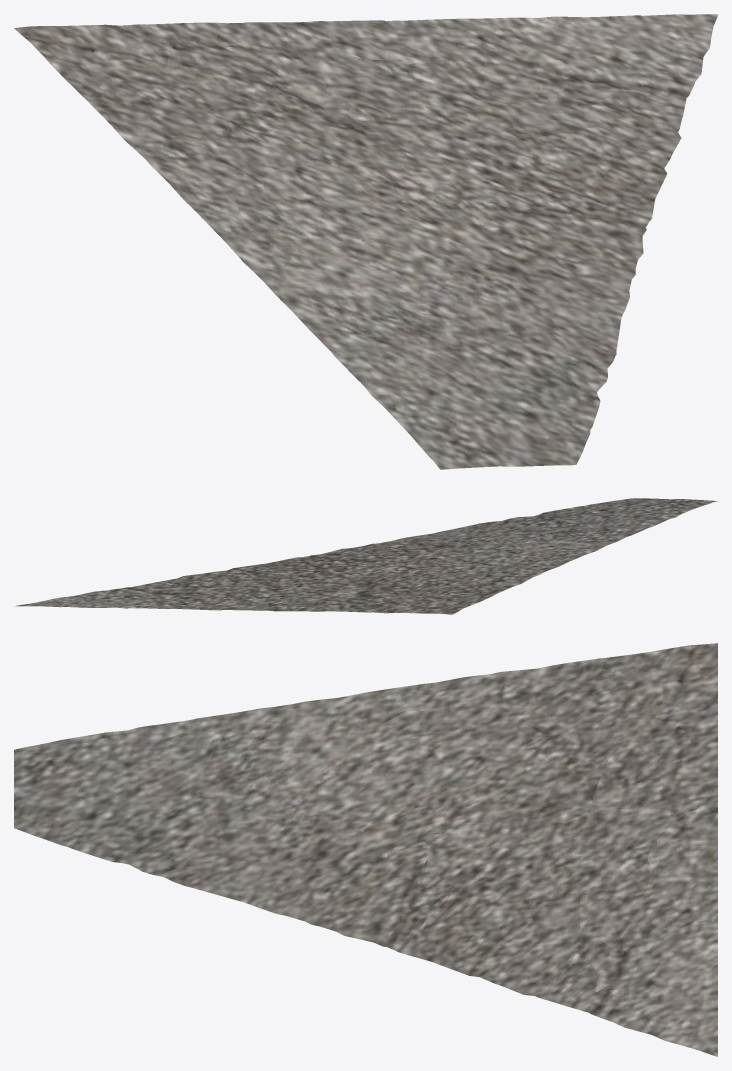
The picture shows the model from 3 angles, top to bottom: view 1: azimuth 30°, elevation 25°; view 2: azimuth 150°, elevation 25°; view 3: azimuth 270°, elevation 25°; orthographic projection. The views are drawn at different scales.
Bounding box in the file's own units: 0.798 × 0.1712 × 0.8373.
Materials: 2 (2 with a texture image).
